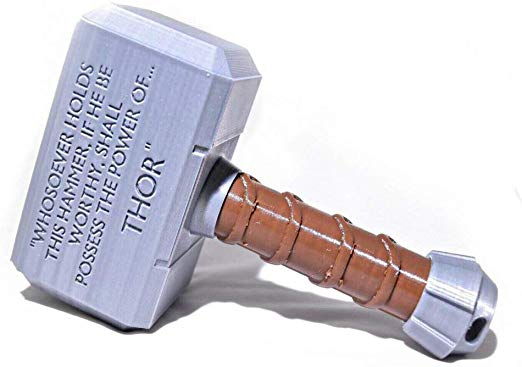THOR Hammer: (25, 8, 507, 358)
